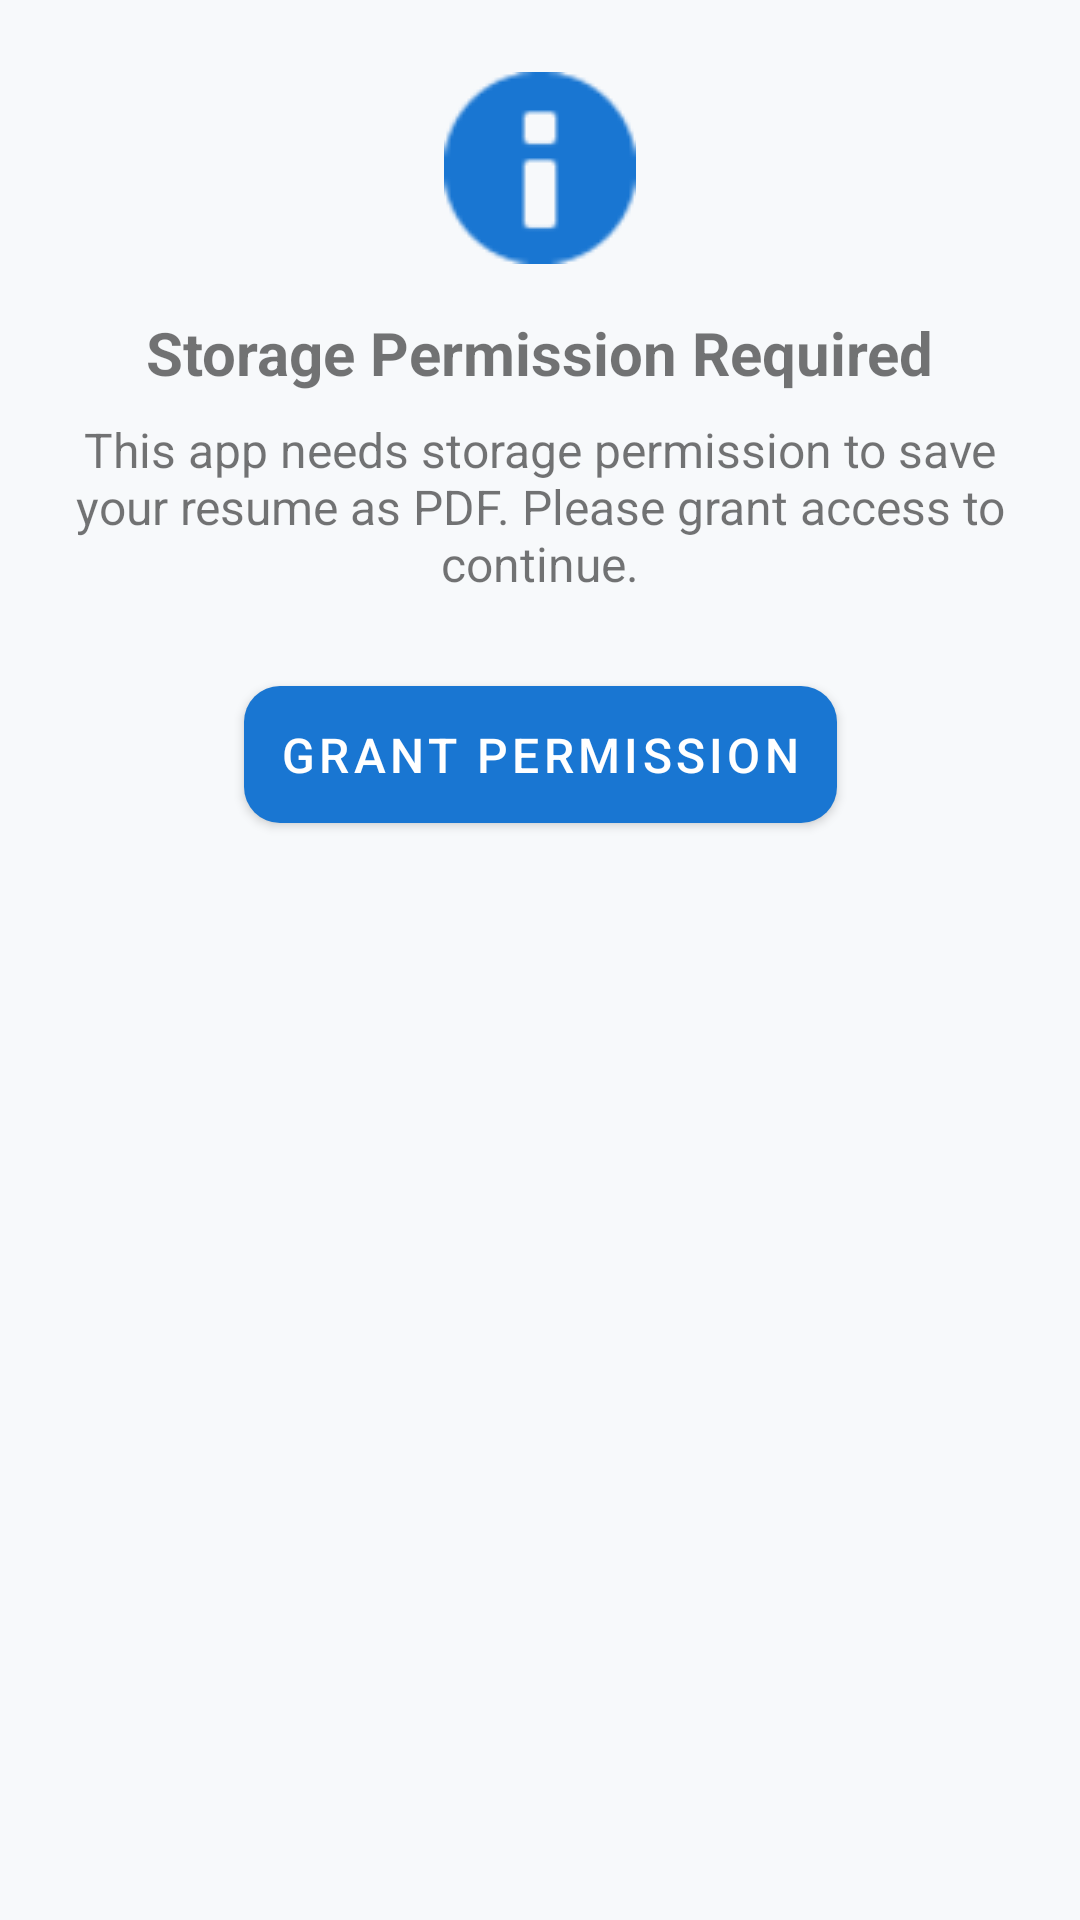

Screen size 1080w x 1920h. Icon name, then its box in pixels as (x1, y1, x2, y2):
info: (444, 72, 636, 264)
